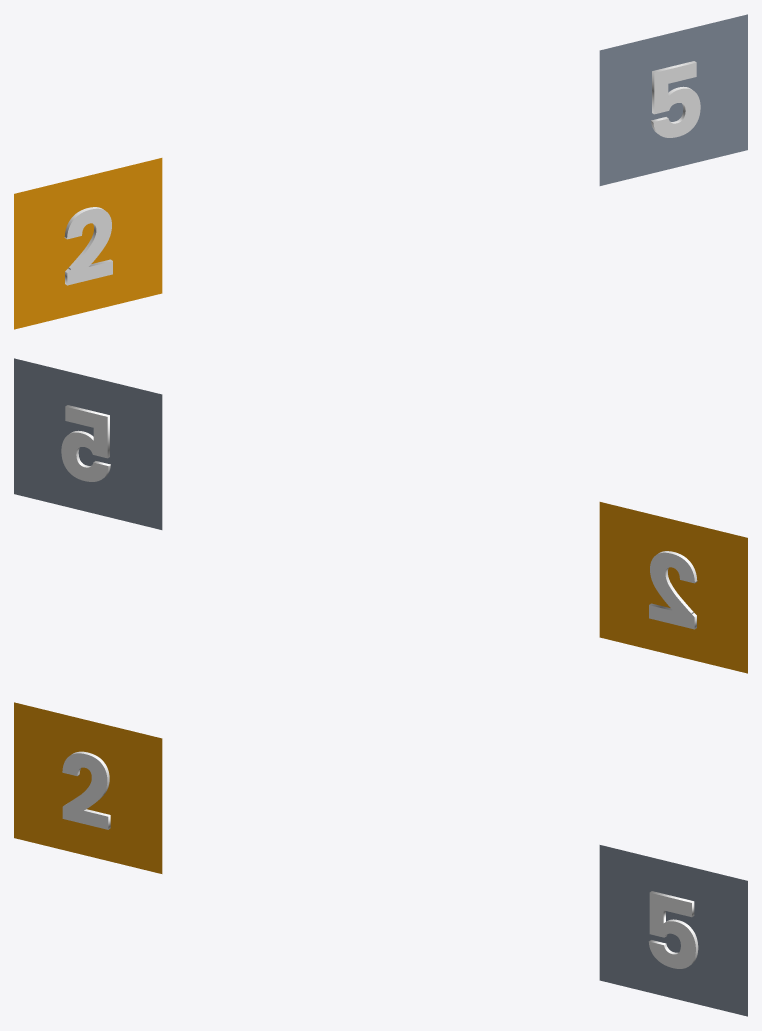
Rendered from sayimevcut.gltf.
The picture shows the model from 3 angles, top to bottom: view 1: azimuth 30°, elevation 25°; view 2: azimuth 150°, elevation 25°; view 3: azimuth 330°, elevation 25°; orthographic projection.
Visible parts, largest first — view 1: Plane.022, Plane.023, Text.007, Text.002; view 2: Plane.022, Plane.023, Text.007, Text.002; view 3: Plane.022, Plane.023, Text.007, Text.002.
Boxes of the visible parts, left/top/right/bottom form: Plane.022: left=14, top=158, right=162, bottom=329; Plane.023: left=599, top=14, right=747, bottom=185; Text.007: left=651, top=61, right=700, bottom=137; Text.002: left=64, top=207, right=112, bottom=285; Plane.022: left=599, top=502, right=747, bottom=673; Plane.023: left=14, top=358, right=162, bottom=529; Text.007: left=61, top=405, right=110, bottom=481; Text.002: left=649, top=551, right=697, bottom=629; Plane.022: left=14, top=702, right=162, bottom=873; Plane.023: left=599, top=845, right=747, bottom=1016; Text.007: left=648, top=891, right=698, bottom=968; Text.002: left=62, top=751, right=110, bottom=829.
Bounding box in the file's own units: 0.396 × 0.0702 × 0.00435.
